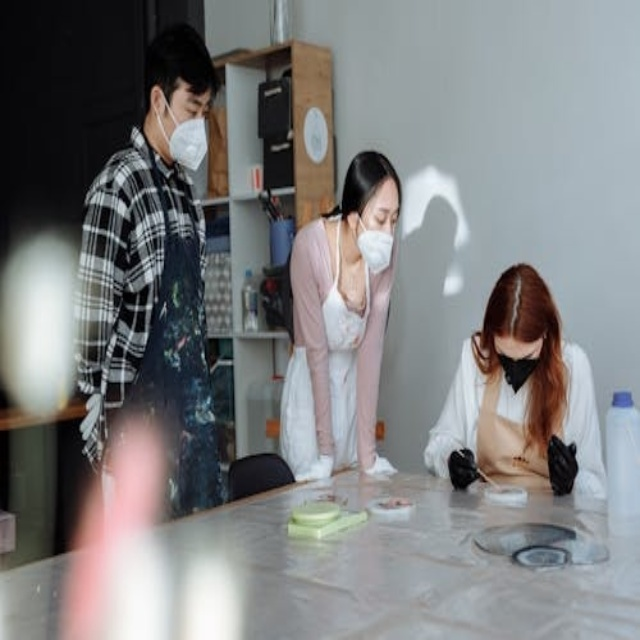Guantes: (543, 427, 584, 496), (447, 440, 481, 494), (357, 444, 401, 480), (294, 450, 332, 484)
Mascara: (160, 95, 209, 172), (355, 212, 394, 274), (496, 345, 542, 395)
Sin_gafas: (174, 85, 209, 119), (367, 198, 399, 227)
